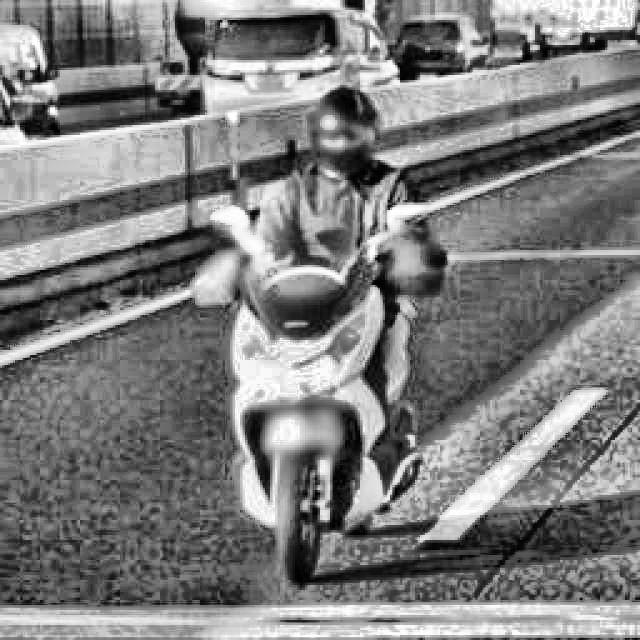motorcycle: (200, 196, 452, 573)
